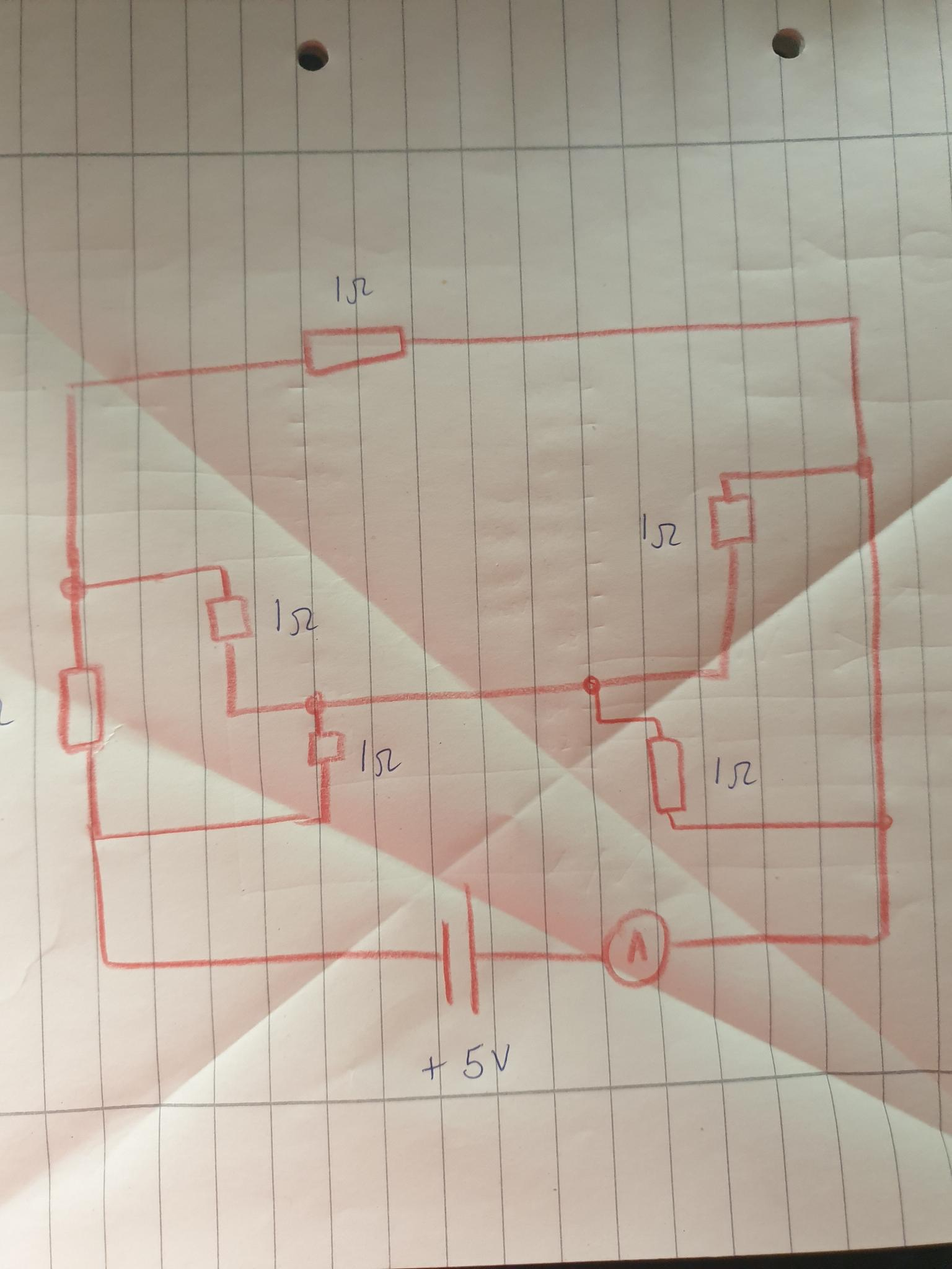junction: (58, 573, 90, 604), (301, 688, 330, 718), (869, 808, 897, 838), (850, 452, 877, 481), (58, 377, 87, 403), (868, 923, 894, 951), (580, 671, 605, 698), (841, 310, 866, 332), (710, 664, 734, 683), (95, 952, 115, 972), (85, 826, 105, 846), (312, 809, 333, 828), (212, 560, 232, 578), (222, 702, 240, 722), (646, 711, 664, 727), (715, 467, 733, 483), (664, 819, 681, 833), (593, 714, 606, 727)
probe.current: (599, 906, 675, 990)
resistor: (297, 320, 410, 379), (53, 661, 111, 760), (643, 732, 690, 817), (708, 490, 759, 554), (203, 591, 254, 650), (304, 727, 346, 769)
text: (420, 1038, 512, 1082), (270, 595, 320, 638), (637, 511, 683, 550), (357, 739, 402, 778), (711, 754, 757, 791), (331, 271, 376, 307)
voltage.battery: (435, 881, 485, 1021)
